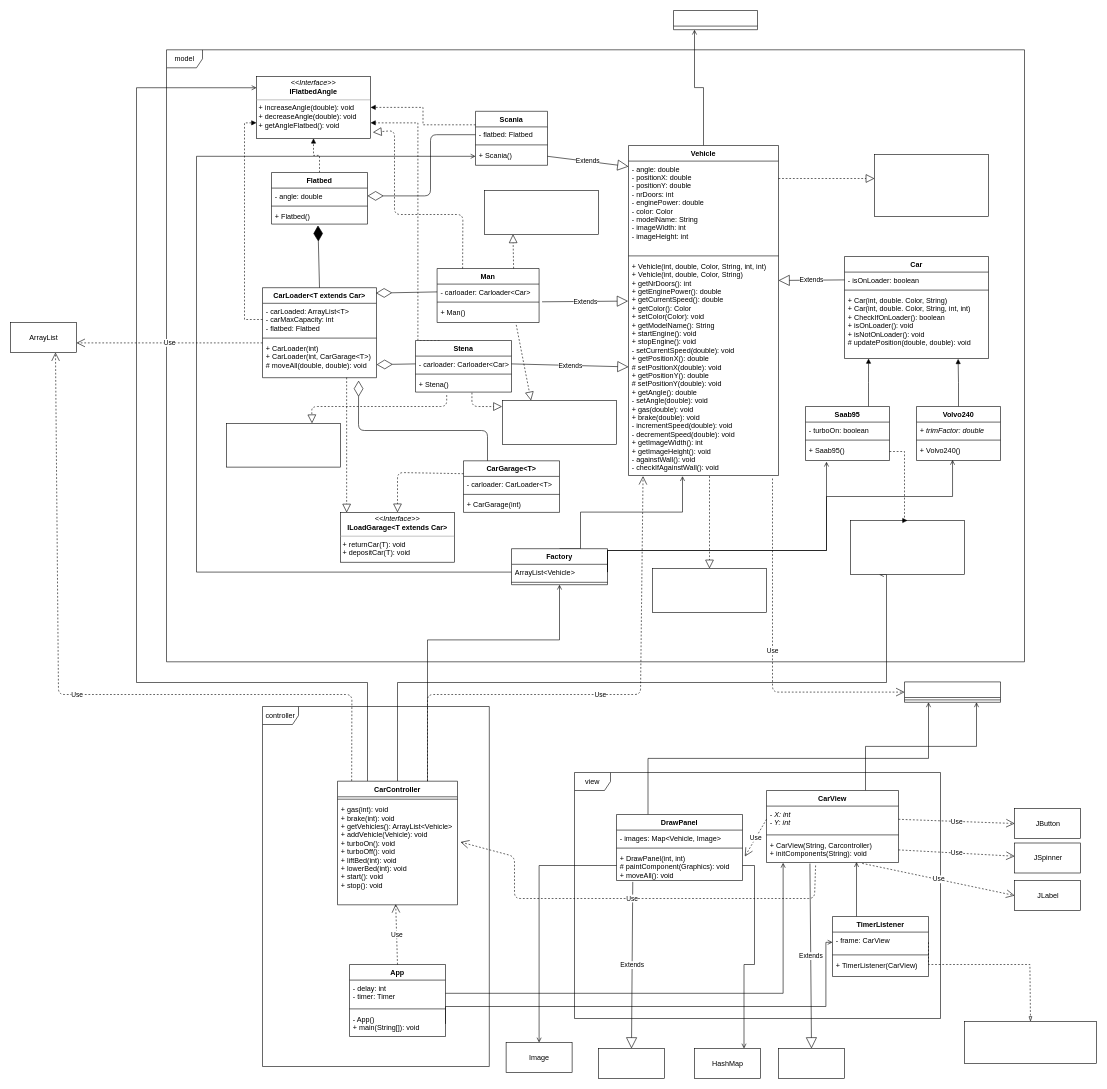
This 1107x1089 diagram has some shape labels left out. Here are the shapes that lost their labels. From the top down, the centre of each, then its label:
the point at 715,20: Color
the point at 931,185: <<Interface>> Movable + move(): void + turnLeft(): void + turnRight(): void
the point at 541,212: <<Interface>> ILoadCarTruck + unloadLastCar(): void
the point at 559,422: <<Interface>> ILoadCar<T extends Car> + loadCar(T): void
the point at 283,445: <<Interface>> ILoadCarFerry + unloadFirstCar(): Void
the point at 907,547: <<Interface>> ITurbo + setTurboOn(): void + setTurboOff(): void
the point at 709,590: <<Interface>> ISpeed + speedFactor(): double
the point at 952,691: Observer
the point at 1030,1042: <<Interface>> ActionListener - actionPerformed(ActionEvent): void
the point at 631,1063: JPanel
the point at 811,1063: JFrame
